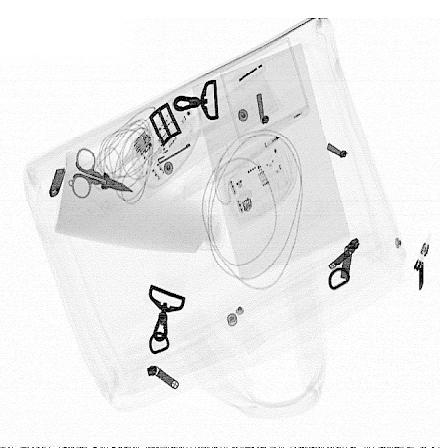Scissors: (67, 145, 134, 199)
